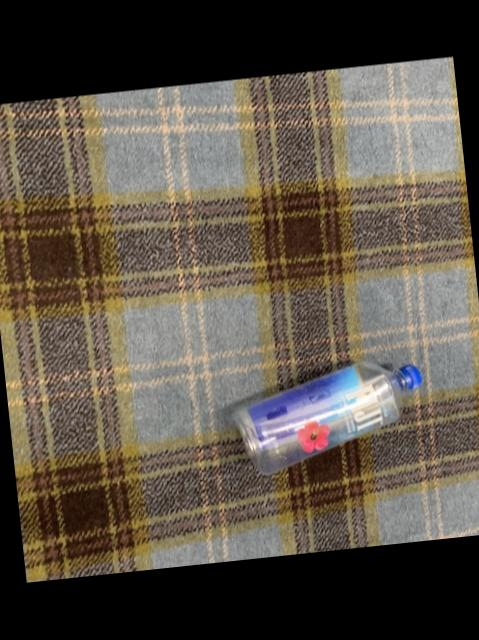plastic: (235, 361, 421, 473)
